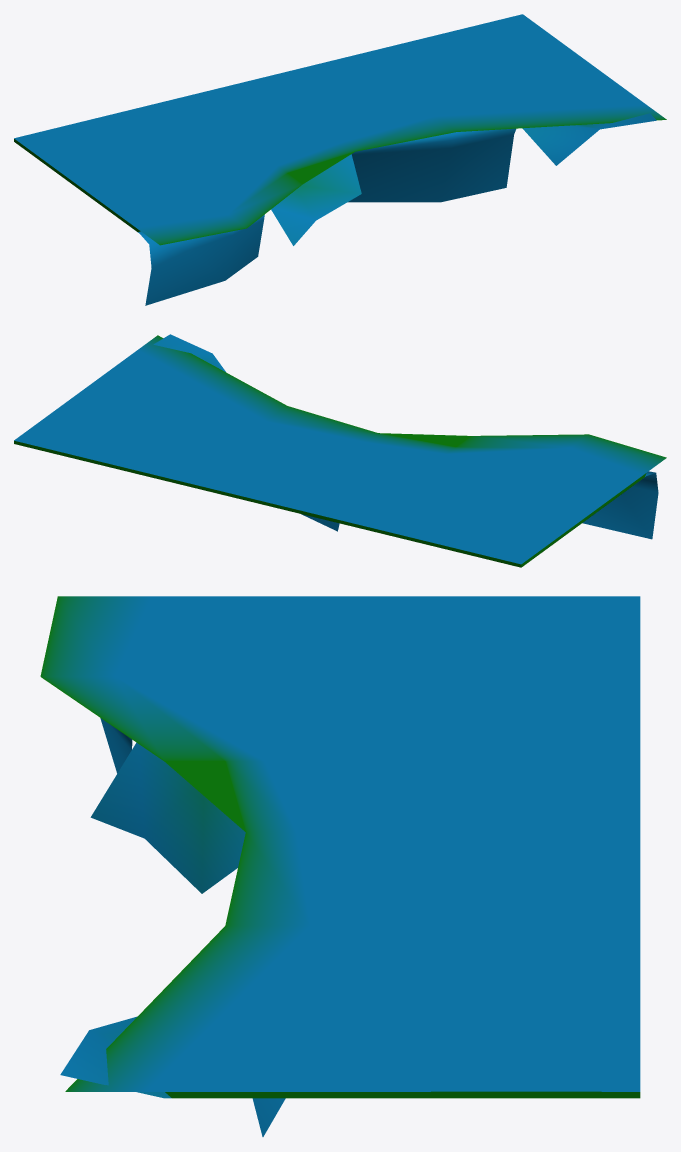
Rendered from DBK_Drywall_Ceiling_Tile_A.fbx.
The picture shows the model from 3 angles, top to bottom: view 1: azimuth 30°, elevation 25°; view 2: azimuth 150°, elevation 25°; view 3: azimuth 270°, elevation 25°; orthographic projection. The views are drawn at different scales.
Visible parts, largest first — view 1: DBK_Drywall_Ceiling_Tile_A; view 2: DBK_Drywall_Ceiling_Tile_A; view 3: DBK_Drywall_Ceiling_Tile_A.
Boxes of the visible parts, <box> form: DBK_Drywall_Ceiling_Tile_A: <box>14,14,666,305</box>; DBK_Drywall_Ceiling_Tile_A: <box>14,334,666,567</box>; DBK_Drywall_Ceiling_Tile_A: <box>40,596,640,1136</box>.
Size of what is drawn, in the model's own units: 300 by 48.05 by 154.
